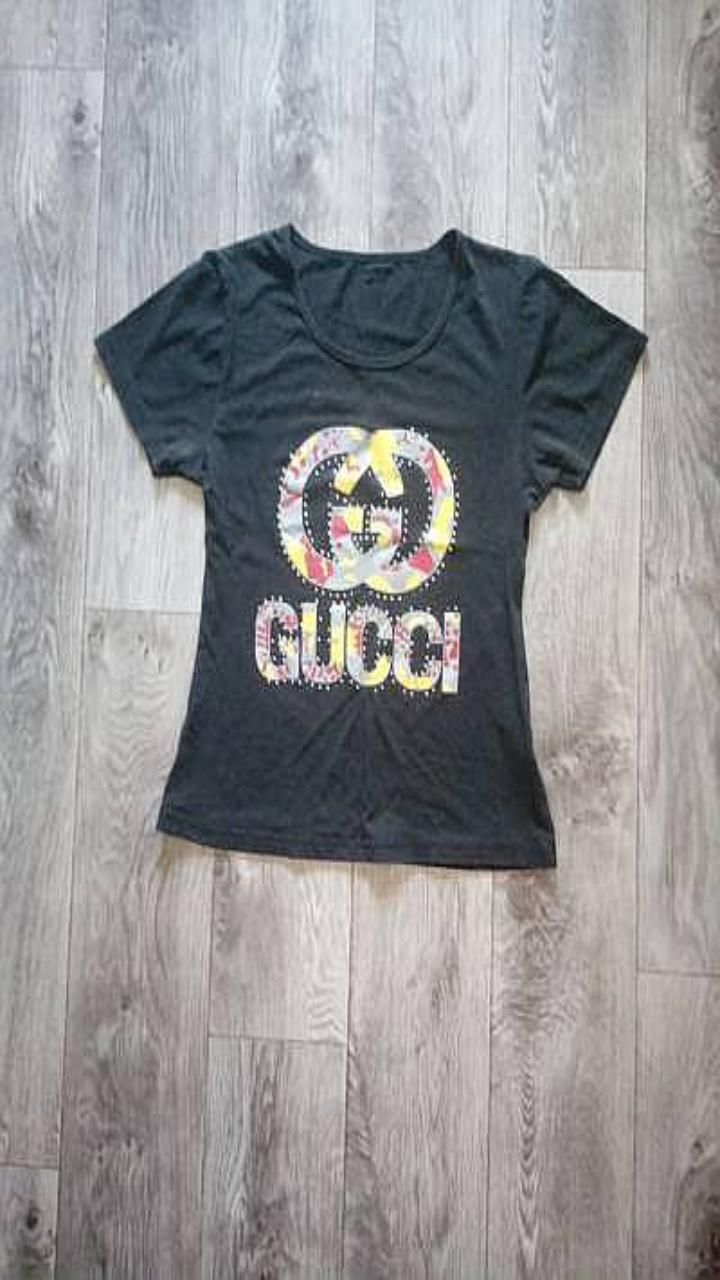T-Shirt: (94, 223, 647, 867)
